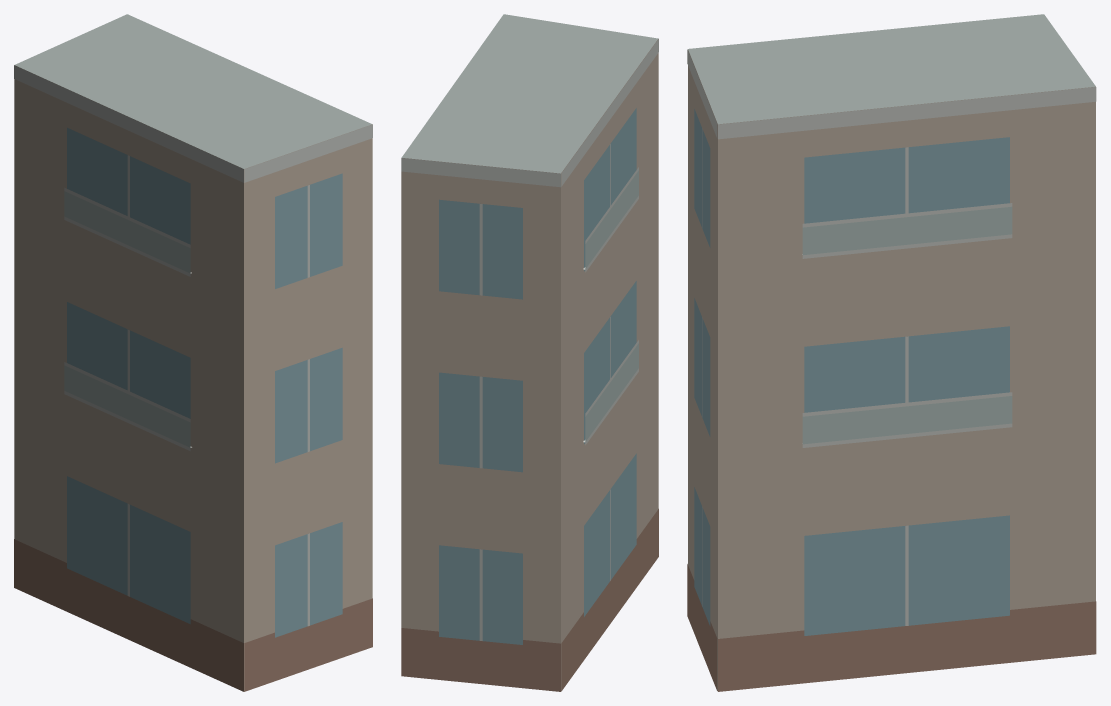
The model's file is survey-upis-32525923.glb.
The picture shows the model from 3 angles, left to right: view 1: azimuth 30°, elevation 25°; view 2: azimuth 150°, elevation 25°; view 3: azimuth 270°, elevation 25°; orthographic projection. The views are drawn at different scales.
Visible parts, largest first — view 1: survey-upis-32525923.tmp; view 2: survey-upis-32525923.tmp; view 3: survey-upis-32525923.tmp.
Part boxes in pixels (x1,y1,x2,y2): survey-upis-32525923.tmp: (14, 14, 372, 691); survey-upis-32525923.tmp: (401, 14, 658, 691); survey-upis-32525923.tmp: (687, 14, 1096, 691).
Size of the model in its own units: 3.82 by 9.15 by 5.98.
